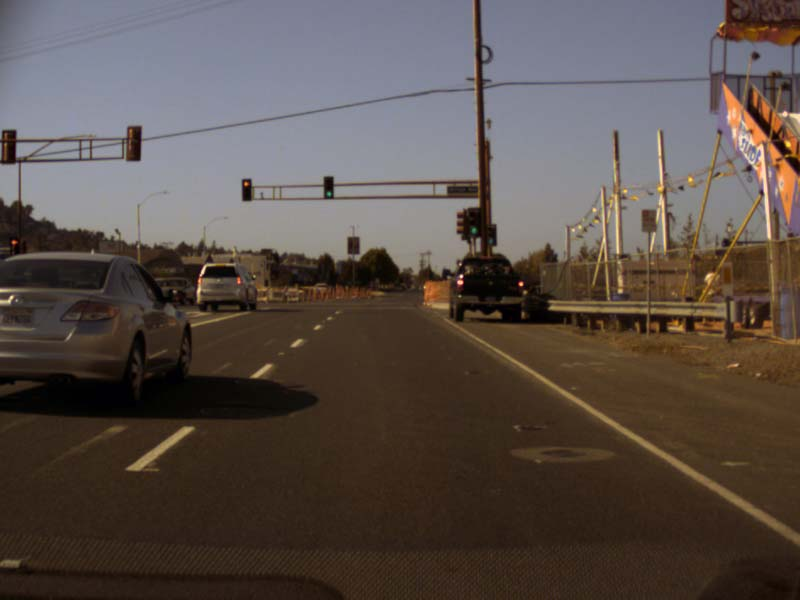Green: (468, 208, 478, 235), (323, 176, 332, 198), (488, 225, 493, 245)
Red: (241, 179, 249, 200), (9, 237, 18, 253)
